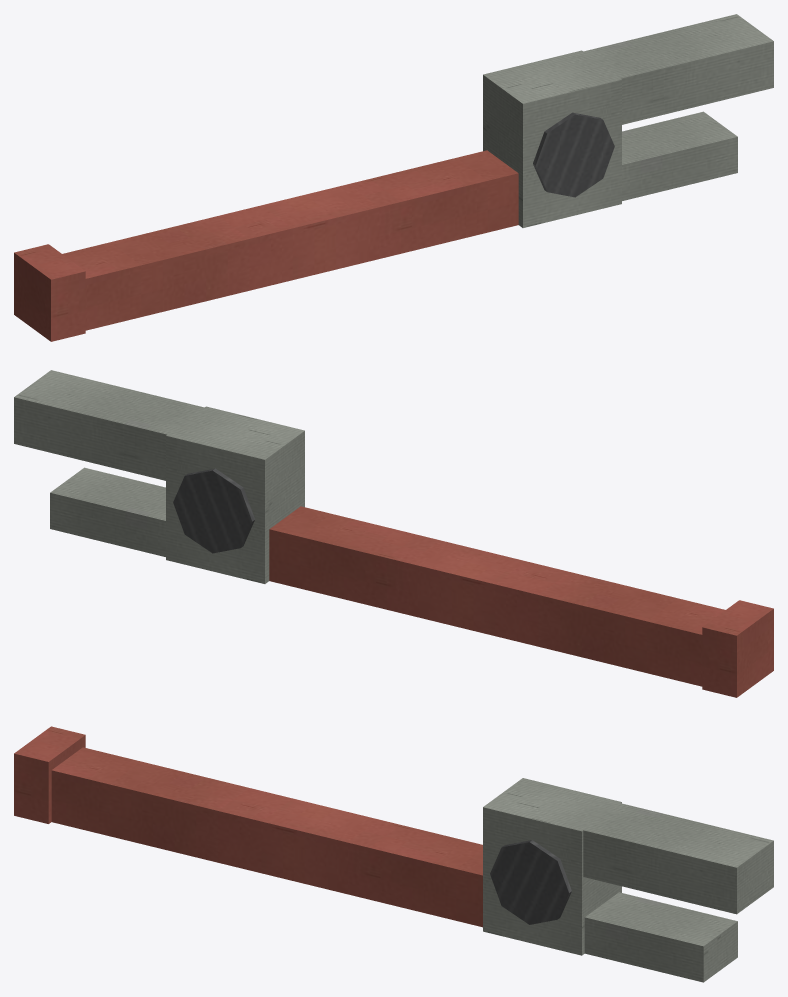
The model's file is wrench_v3.glb.
3 renders of one model, top to bottom at view 1: azimuth 30°, elevation 25°; view 2: azimuth 150°, elevation 25°; view 3: azimuth 330°, elevation 25°, orthographic.
Parts seen in each view (by area): view 1: Variant_wrench_3; view 2: Variant_wrench_3; view 3: Variant_wrench_3.
Boxes of the visible parts, x1=… form: Variant_wrench_3: x1=14, y1=14, x2=773, y2=341; Variant_wrench_3: x1=14, y1=370, x2=773, y2=697; Variant_wrench_3: x1=14, y1=726, x2=773, y2=982.
Size of the model in its own units: 0.292 by 0.048 by 0.032.
3 materials, 3 textured.
